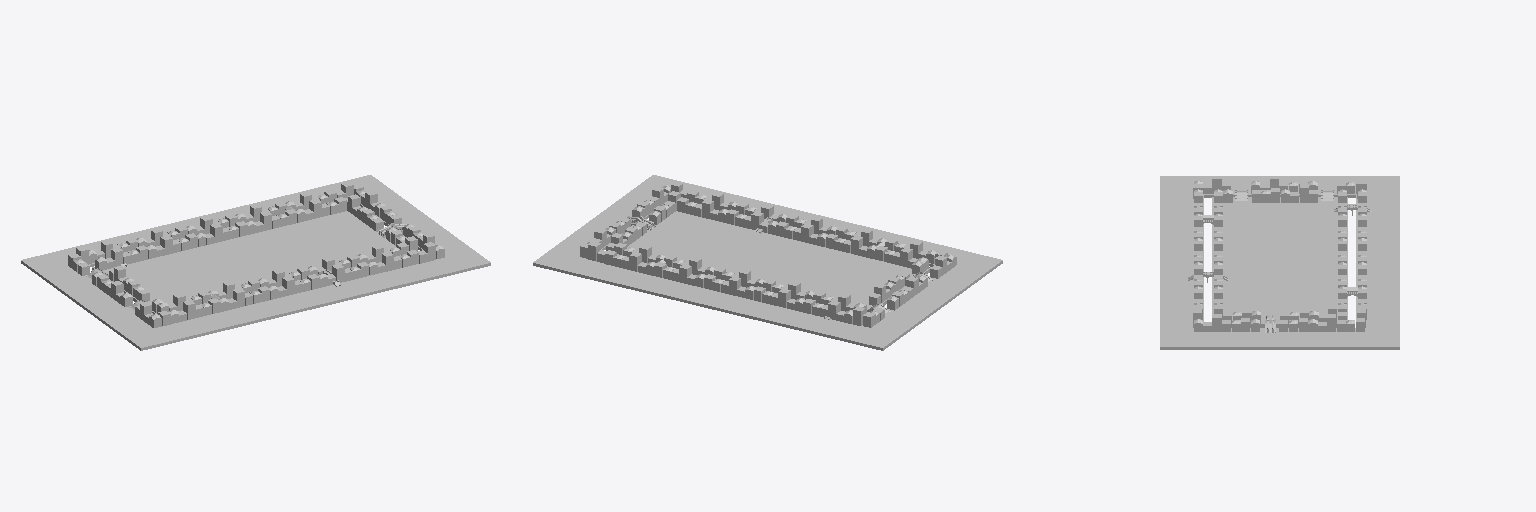
Rendered from venice1.obj.
3 views of the same model, side by side, from view 1: azimuth 30°, elevation 25°; view 2: azimuth 150°, elevation 25°; view 3: azimuth 270°, elevation 25° (orthographic).
Visible parts, largest first — view 1: Cube, Cube.003_Cube.163, Cube.001_Cube.161, Cube.002_Cube.162, Cube.155; view 2: Cube, Cube.002_Cube.162, Cube.155, Cube.001_Cube.161, Cube.003_Cube.163; view 3: Cube, Cube.003_Cube.163, Cube.001_Cube.161, Cube.002_Cube.162, Cube.155.
Part boxes in pixels (bbox=[...]): Cube: bbox=[21, 175, 490, 350]; Cube.003_Cube.163: bbox=[95, 197, 346, 269]; Cube.001_Cube.161: bbox=[168, 250, 418, 323]; Cube.002_Cube.162: bbox=[89, 190, 336, 263]; Cube.155: bbox=[157, 242, 408, 313]; Cube: bbox=[533, 175, 1002, 350]; Cube.002_Cube.162: bbox=[605, 250, 852, 323]; Cube.155: bbox=[677, 197, 928, 271]; Cube.001_Cube.161: bbox=[687, 190, 936, 263]; Cube.003_Cube.163: bbox=[614, 243, 866, 312]; Cube: bbox=[1160, 176, 1399, 349]; Cube.003_Cube.163: bbox=[1338, 189, 1346, 311]; Cube.001_Cube.161: bbox=[1194, 189, 1202, 319]; Cube.002_Cube.162: bbox=[1358, 189, 1366, 319]; Cube.155: bbox=[1214, 189, 1222, 304].
Size of the model in its own units: 24.4 by 1.25 by 14.54.